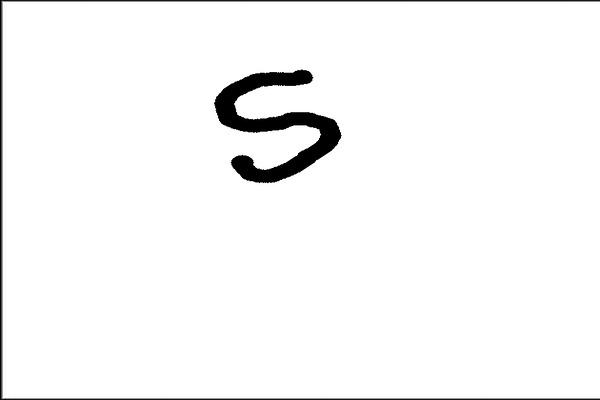S: (211, 65, 345, 187)
